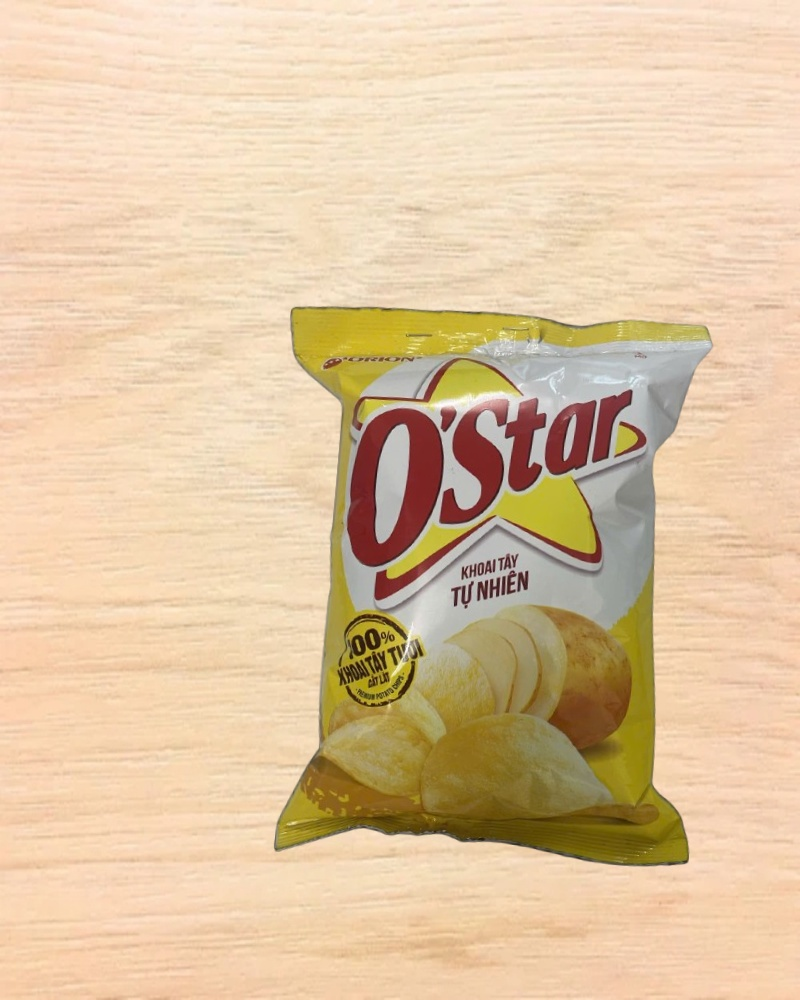O'star: (246, 290, 735, 887)
